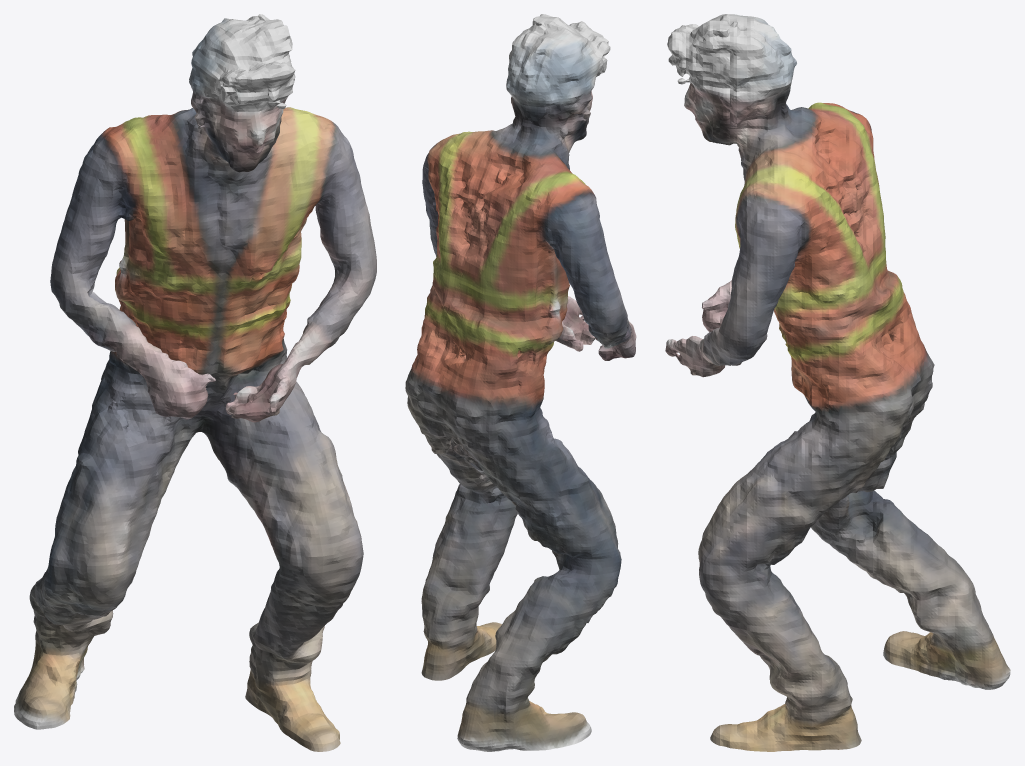
The model's file is standup_12.glb.
3 renders of one model, left to right at view 1: azimuth 30°, elevation 25°; view 2: azimuth 150°, elevation 25°; view 3: azimuth 270°, elevation 25°, orthographic. The views are drawn at different scales.
Parts seen in each view (by area): view 1: world; view 2: world; view 3: world.
Part boxes in pixels (x1=…): world: x1=14, y1=14, x2=376, y2=751; world: x1=405, y1=14, x2=636, y2=751; world: x1=665, y1=14, x2=1010, y2=751.
Bounding box in the file's own units: 0.6788 × 1.76 × 0.7951.
